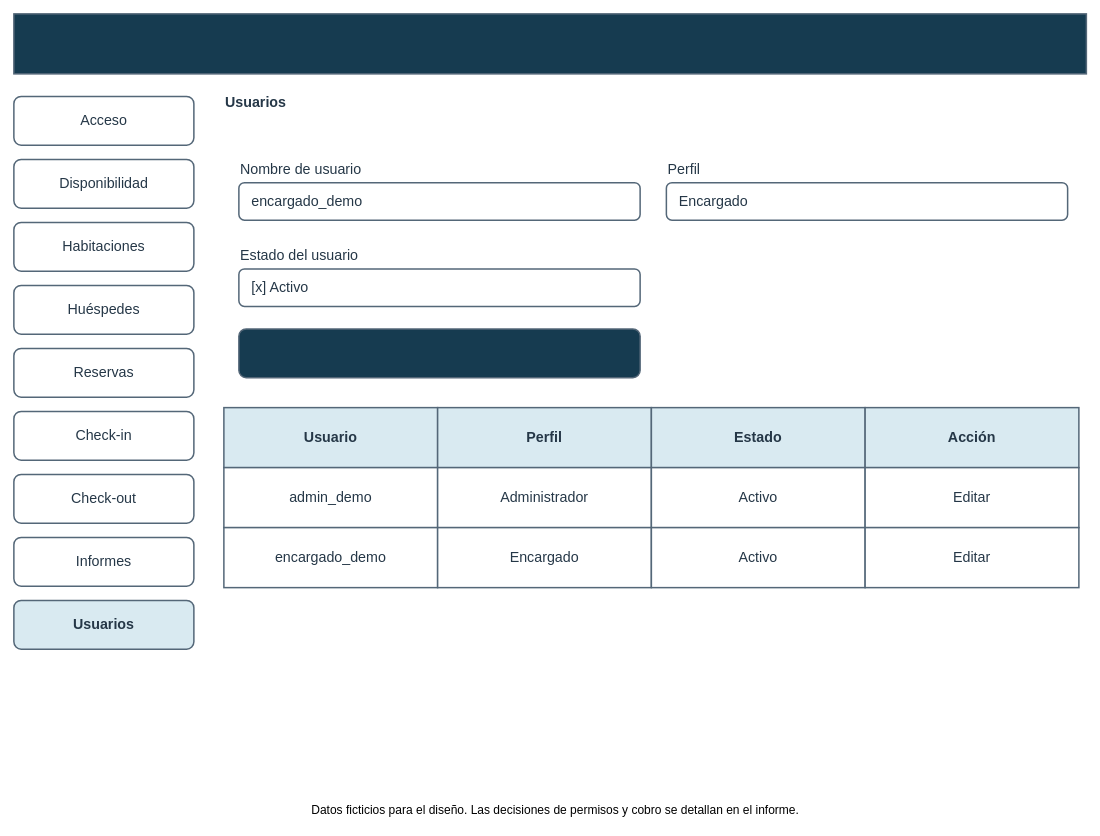
The diagram is 1100 pixels wide and 836 high, and some of its shapes have lost their labels. The shapes that lost their labels are listed below. From the top down, each one's centre as x and y in pixels, then its label:
the point at 550,43: Hotel Duerme Bien · Sistema de pasajeros
the point at 439,353: Guardar usuario
